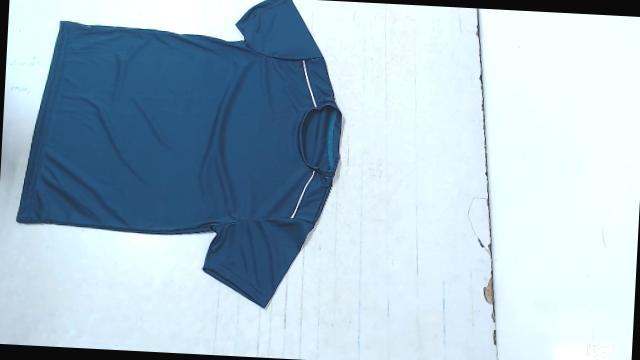new-garment: (17, 0, 341, 306)
